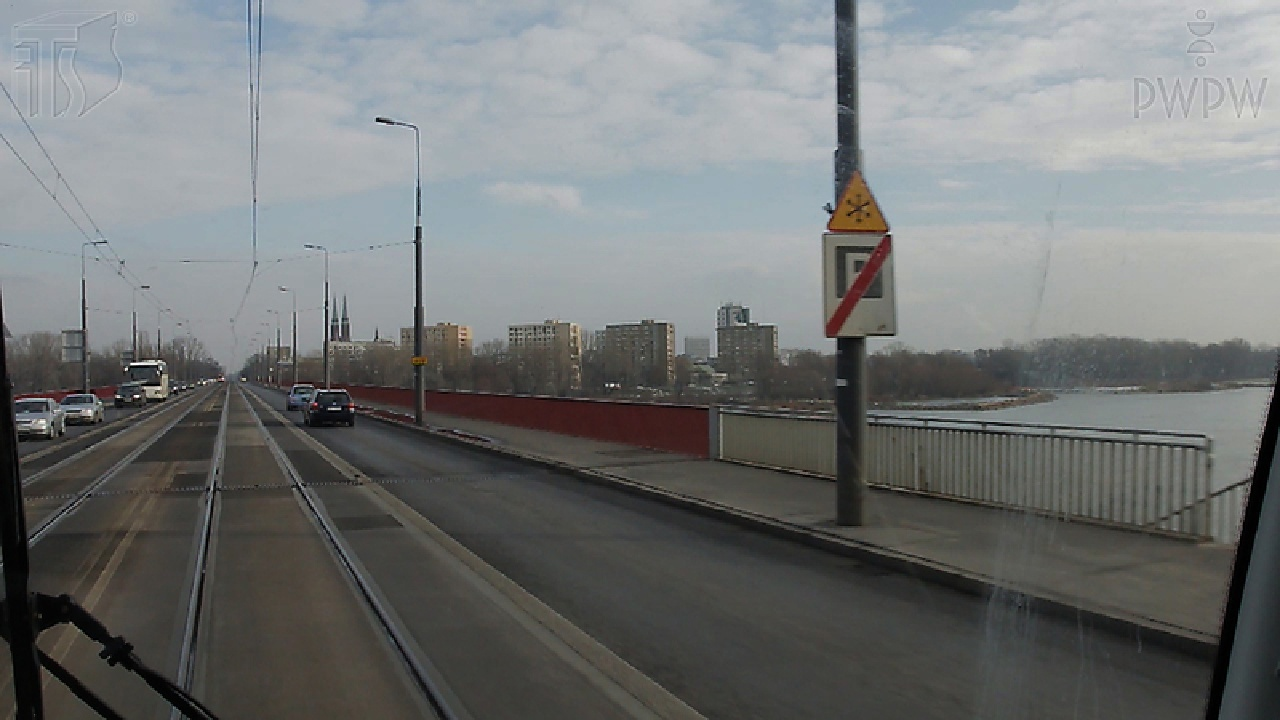A32: (828, 170, 890, 232)
